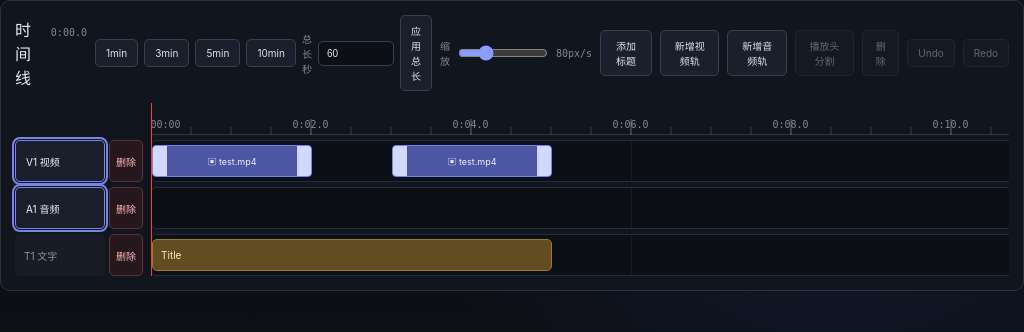
it: editor interactions › clamps trim drags at same-track conflicts and shows the reason
Press the mouse on the 1st button named "裁剪 视频 test.mp4 结尾" at (304, 161), box [297,146,311,176]
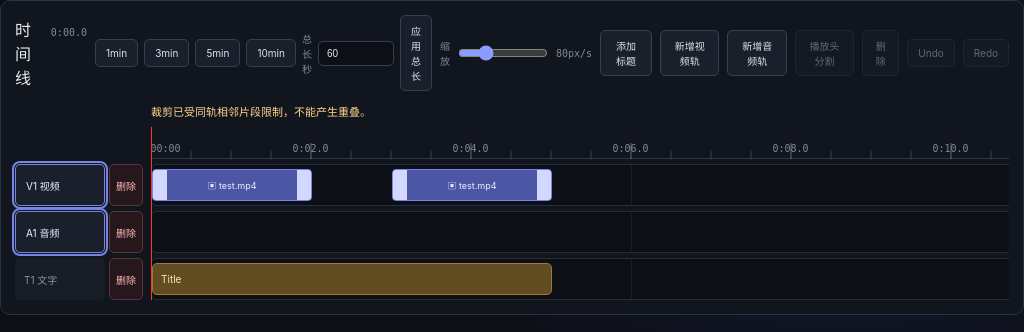
Check: the message shows "同轨相邻片段", box [151,105,371,119]
